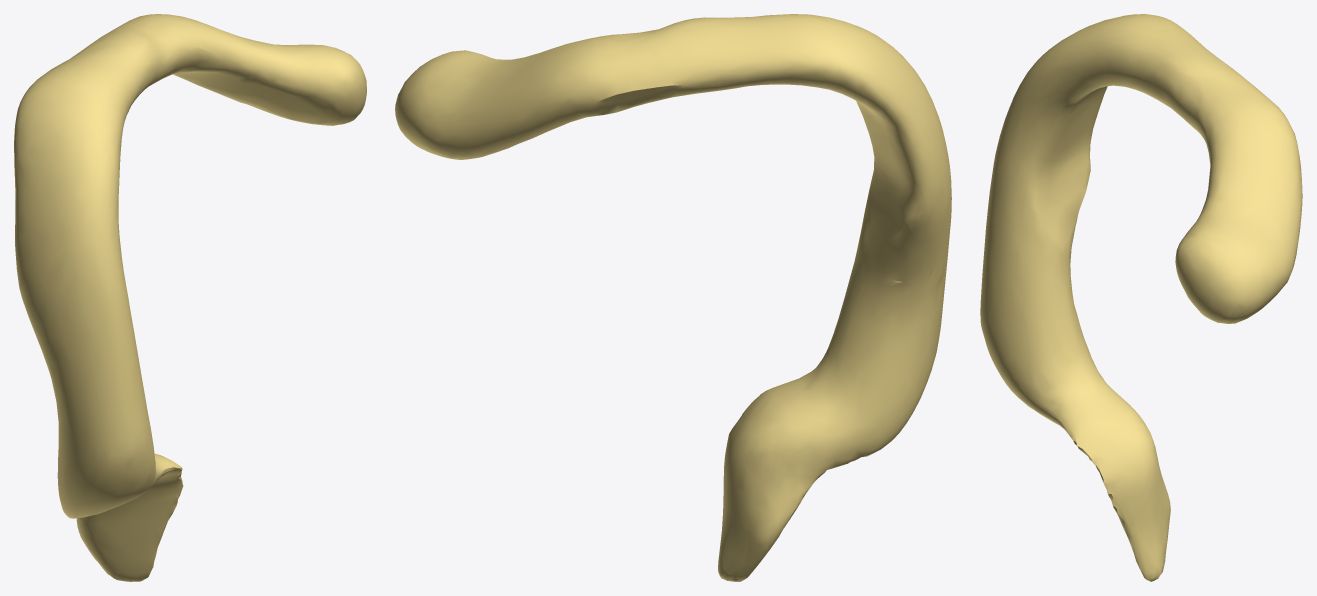
Rendered from fma73640_mm3438.glb.
3 views of the same model, side by side, from view 1: azimuth 30°, elevation 25°; view 2: azimuth 150°, elevation 25°; view 3: azimuth 270°, elevation 25° (orthographic). The views are drawn at different scales.
Visible parts, largest first — view 1: FMA73640_MM3438; view 2: FMA73640_MM3438; view 3: FMA73640_MM3438.
Boxes of the visible parts, x1=… form: FMA73640_MM3438: x1=14, y1=14, x2=366, y2=581; FMA73640_MM3438: x1=395, y1=14, x2=951, y2=581; FMA73640_MM3438: x1=980, y1=14, x2=1302, y2=581.
Bounding box in the file's own units: 0.0145 × 0.0175 × 0.00966.
